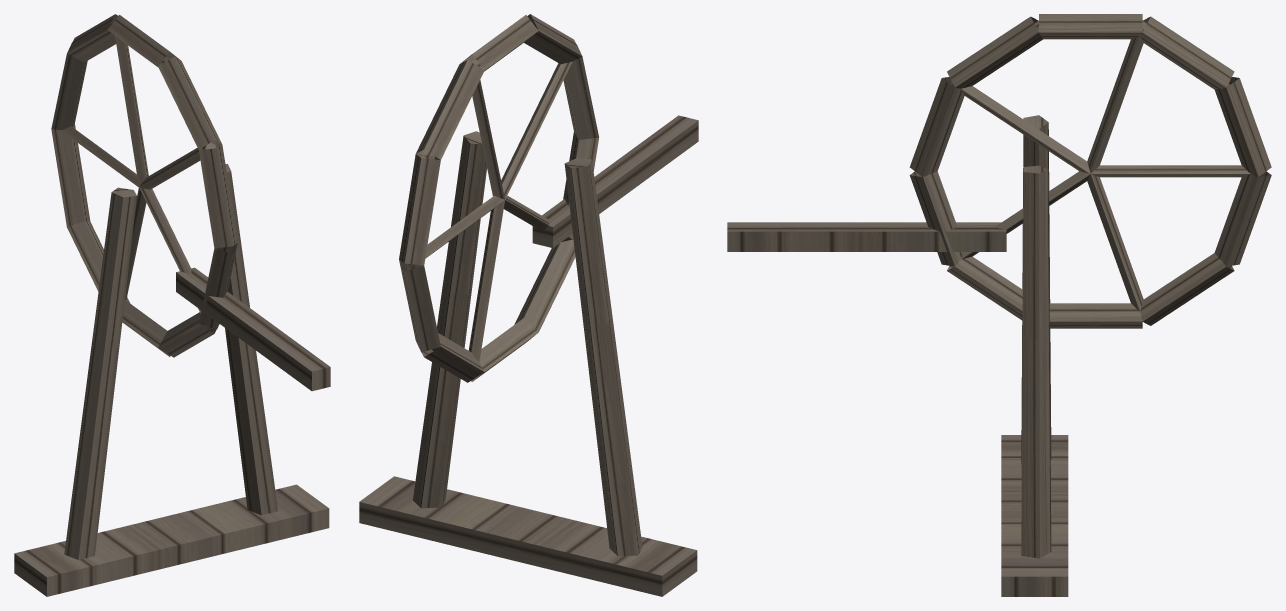
Rendered from spinning_wheel_01.glb.
3 views of the same model, side by side, from view 1: azimuth 30°, elevation 25°; view 2: azimuth 150°, elevation 25°; view 3: azimuth 270°, elevation 25° (orthographic). The views are drawn at different scales.
Parts seen in each view (by area): view 1: spinning_wheel_01; view 2: spinning_wheel_01; view 3: spinning_wheel_01.
Part boxes in pixels (x1=…): spinning_wheel_01: x1=14, y1=14, x2=330, y2=596; spinning_wheel_01: x1=359, y1=14, x2=698, y2=596; spinning_wheel_01: x1=727, y1=14, x2=1271, y2=596.
Bounding box in the file's own units: 0.6 × 1.01 × 0.9738.
Materials: 1 (1 with a texture image).
